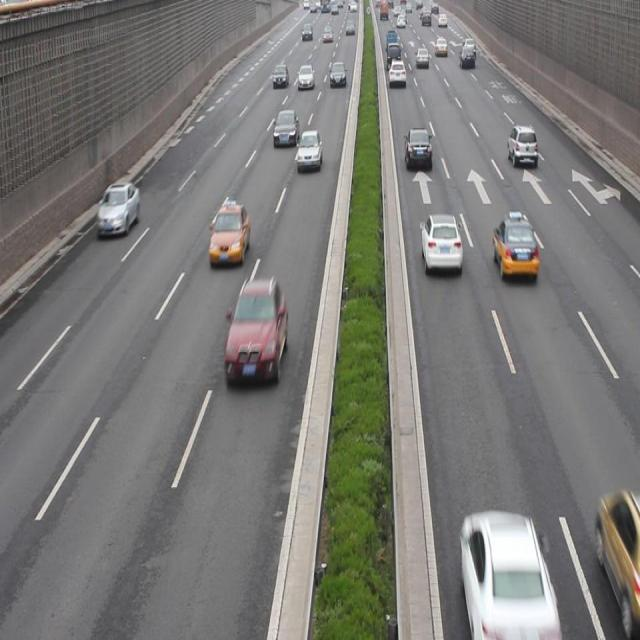car: (459, 515, 554, 630), (223, 280, 286, 385), (595, 488, 640, 614), (491, 211, 538, 283), (207, 200, 251, 271), (419, 212, 462, 275), (97, 183, 140, 238), (505, 125, 536, 168), (404, 127, 432, 169), (295, 128, 322, 169), (272, 109, 299, 148)
